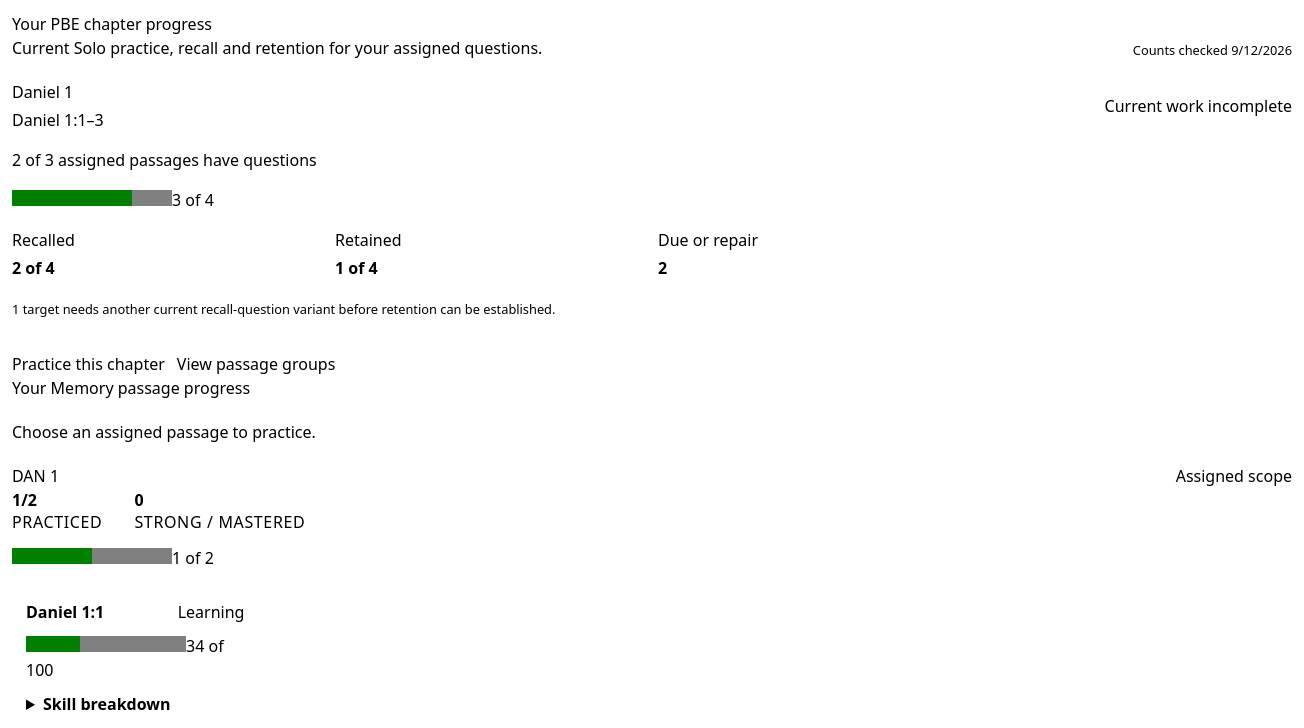
Test: loads only the selected chapter groups and keeps their counters nonadditive
What coordinates should you click on to do the following:
click the button "View passage groups"
I would click on:
 (256, 364)
Its box is [177,352,335,376].
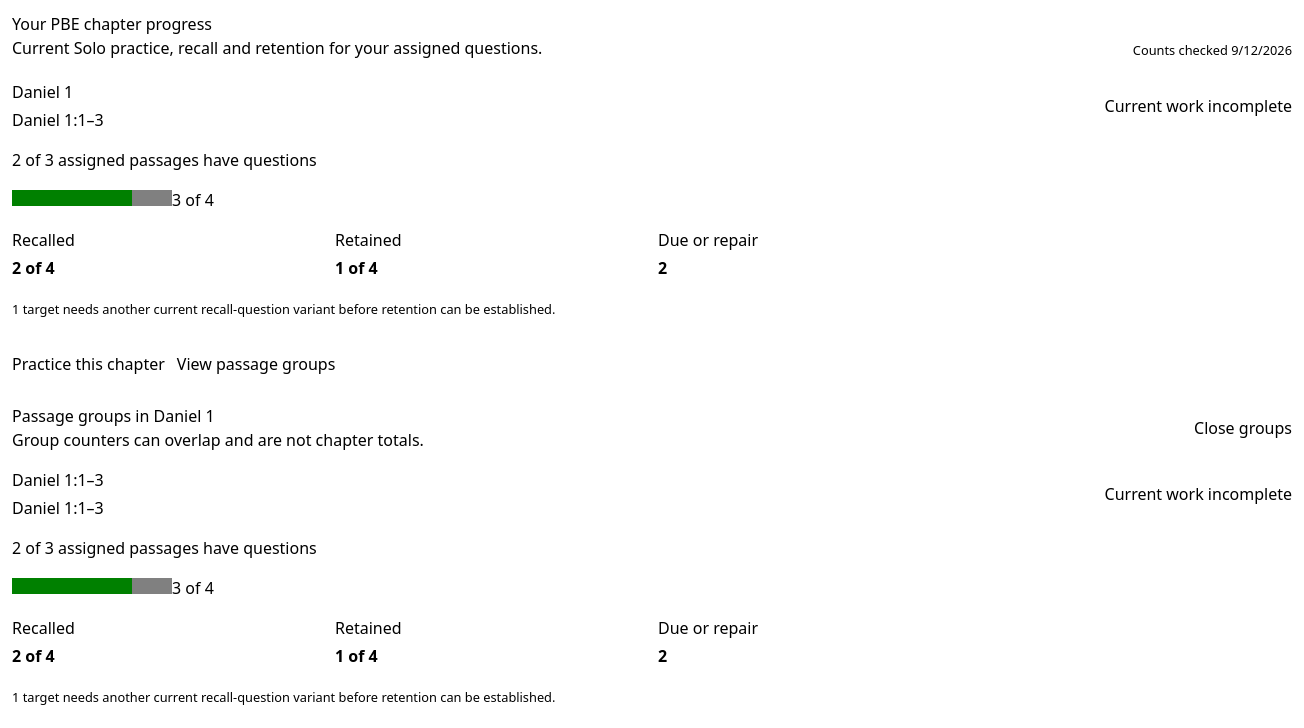
Result: the heading "Passage groups in Daniel 1" is shown at [12,405,215,427]
Result: the text "Group counters can overlap and are not chapter totals." is shown at [12,428,424,452]
